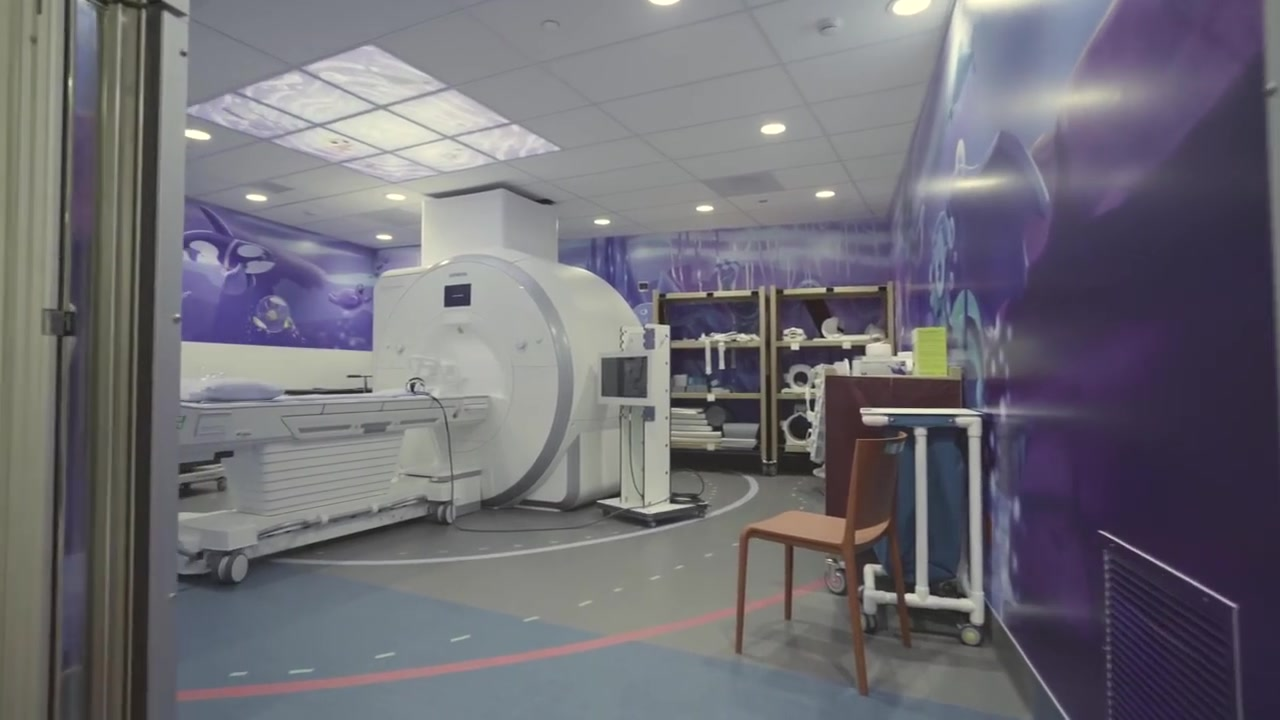bedside_monitor: (596, 352, 655, 409)
cabinet: (651, 291, 887, 460)
chair: (733, 428, 916, 693)
waste_bin: (861, 403, 994, 644)
xray_bed: (175, 382, 494, 585)
xray_machine: (373, 255, 597, 511)
